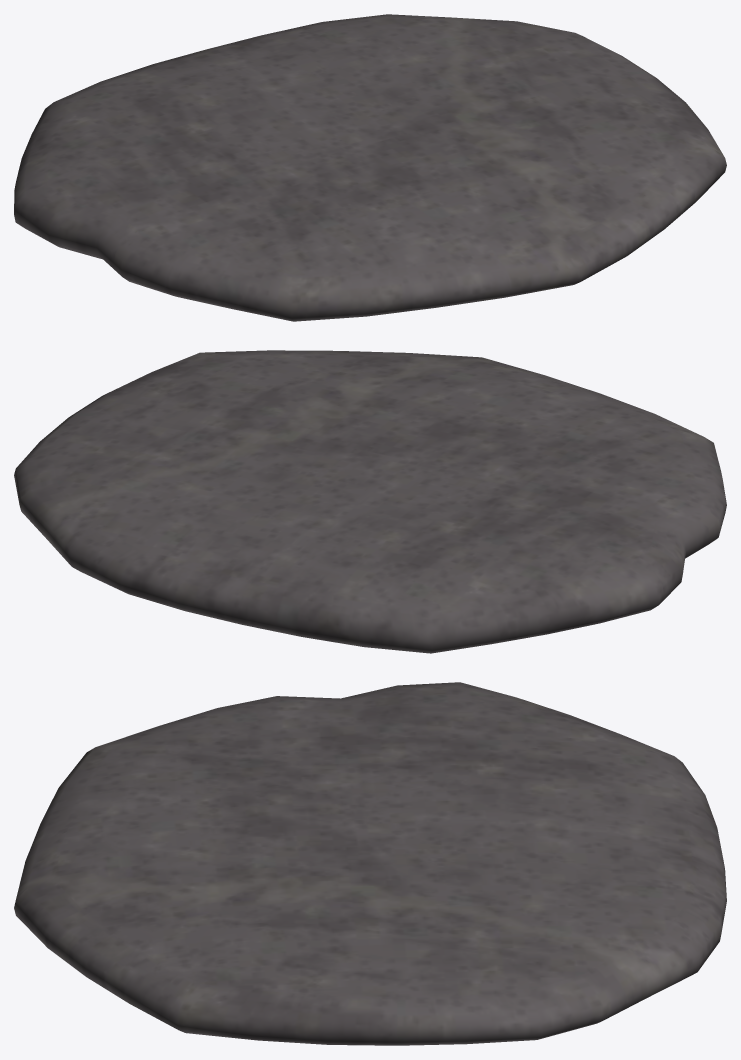
File: small_wafer_05.glb
3 renders of one model, top to bottom at view 1: azimuth 30°, elevation 25°; view 2: azimuth 150°, elevation 25°; view 3: azimuth 270°, elevation 25°, orthographic. The views are drawn at different scales.
Parts seen in each view (by area): view 1: small_wafer_05; view 2: small_wafer_05; view 3: small_wafer_05.
Part boxes in pixels (x1,y1,x2,y2): small_wafer_05: (14, 14, 726, 321); small_wafer_05: (14, 350, 726, 653); small_wafer_05: (14, 682, 726, 1045).
Size of the model in its own units: 0.0539 by 0.00559 by 0.0476.
Materials: 1 (1 with a texture image).
